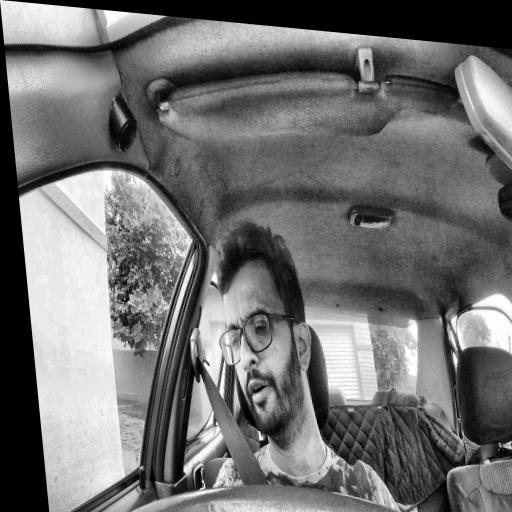drowsy: (206, 219, 322, 444)
